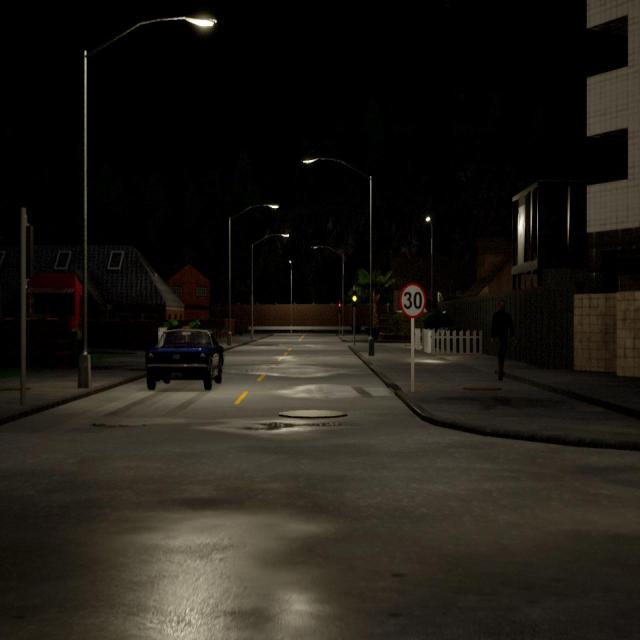Pedestrian: (490, 300, 516, 381)
Traffic_Signs: (400, 283, 427, 317)
Vehicle: (145, 329, 223, 389)
traffic_light: (25, 224, 36, 280), (351, 291, 358, 308), (338, 300, 342, 312)
